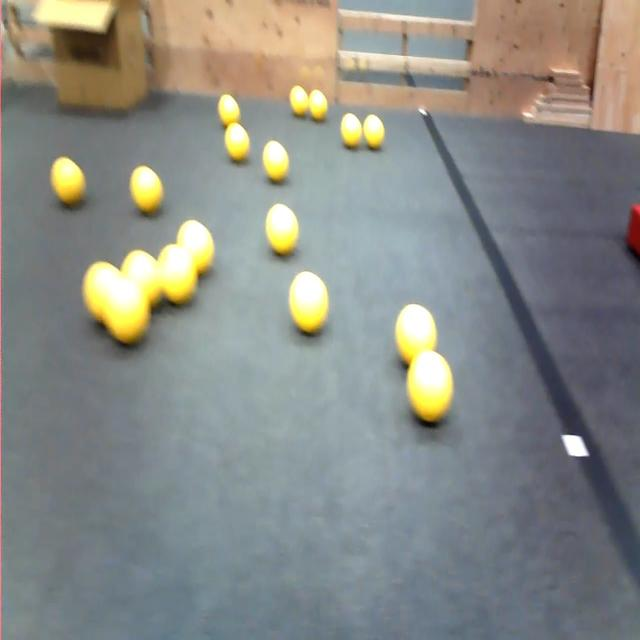fuel: (407, 352, 453, 423), (105, 274, 150, 344), (395, 304, 437, 364), (289, 272, 328, 334), (158, 244, 197, 305), (121, 250, 162, 308), (82, 262, 120, 323), (177, 220, 214, 274), (51, 157, 85, 207), (266, 204, 298, 255), (130, 166, 163, 215), (263, 141, 289, 182), (225, 123, 250, 162), (341, 113, 362, 148), (363, 114, 384, 149), (218, 95, 240, 127), (309, 89, 327, 121), (290, 86, 308, 117)
